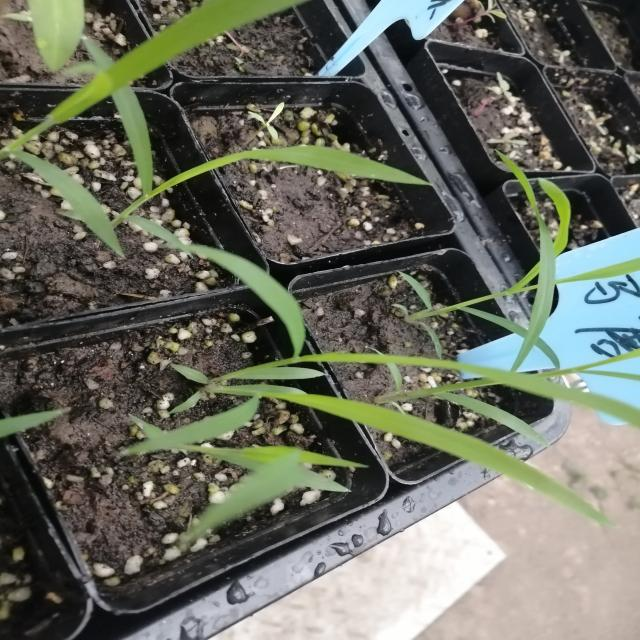crabgrass: (122, 279, 623, 549)
